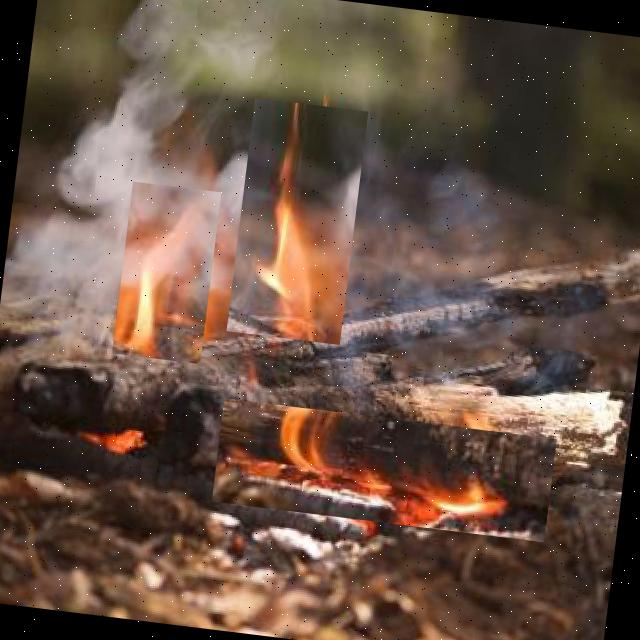fire: (211, 398, 556, 542), (226, 98, 368, 344), (112, 181, 220, 364)
